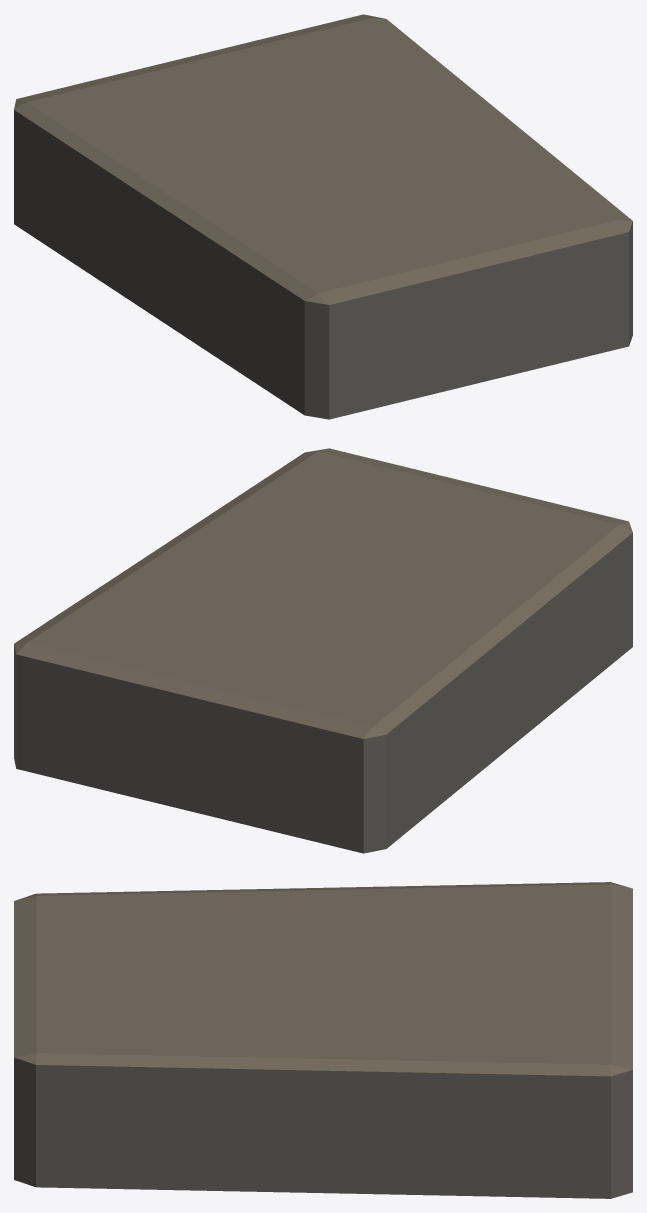
Rendered from headstone.fbx.
The picture shows the model from 3 angles, top to bottom: view 1: azimuth 30°, elevation 25°; view 2: azimuth 150°, elevation 25°; view 3: azimuth 270°, elevation 25°; orthographic projection. The views are drawn at different scales.
Visible parts, largest first — view 1: headstone; view 2: headstone; view 3: headstone.
Boxes of the visible parts, x1=… form: headstone: x1=14, y1=14, x2=632, y2=419; headstone: x1=14, y1=448, x2=632, y2=853; headstone: x1=14, y1=882, x2=632, y2=1198.
Size of the model in its own units: 146 by 46.07 by 196.
